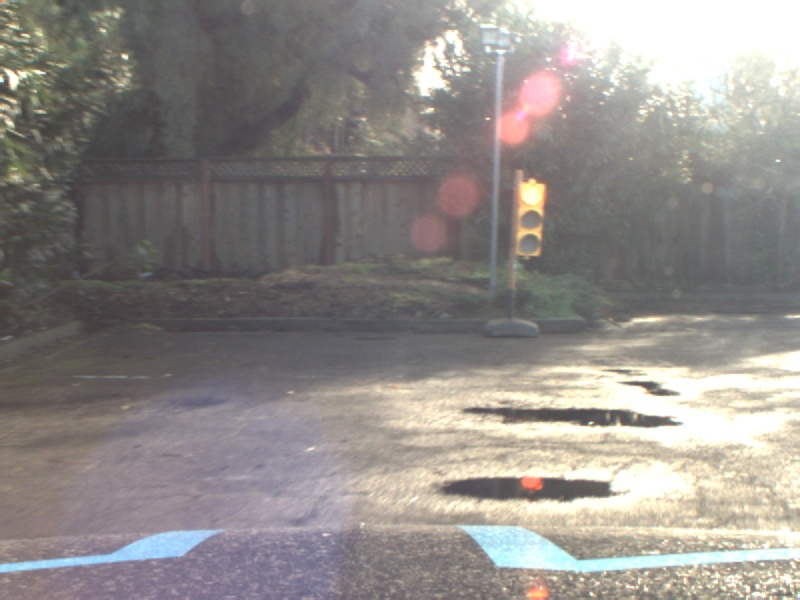Red: (515, 182, 544, 256)
